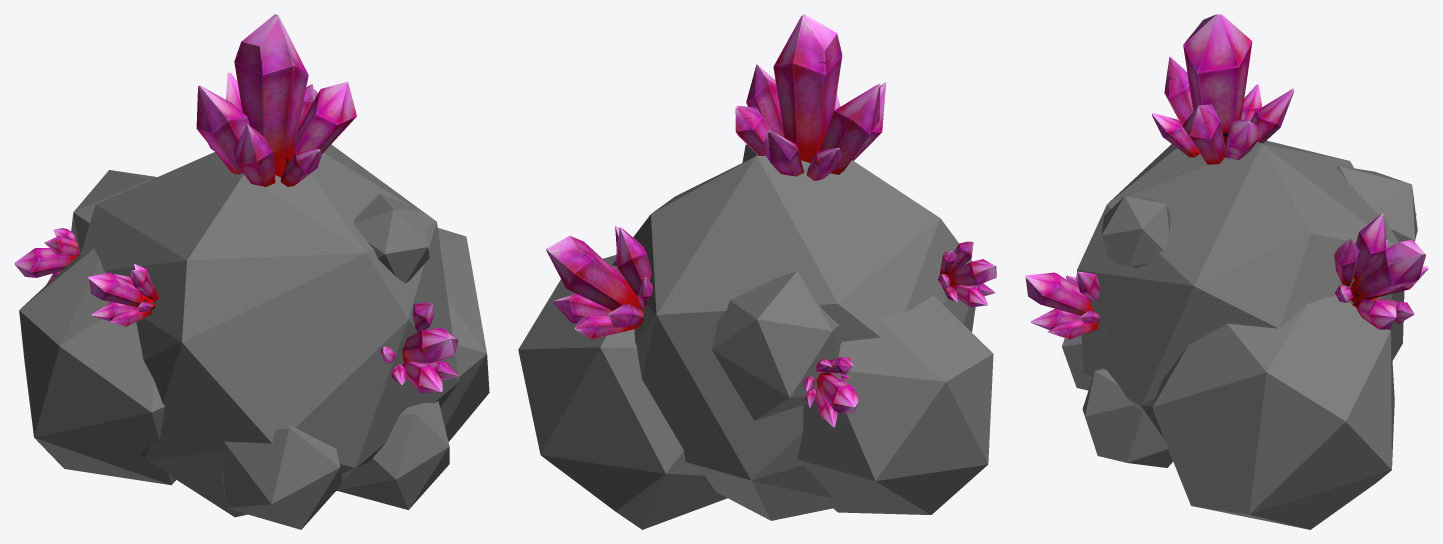
The model's file is MagicstoneOrePileBlender.fbx.
The picture shows the model from 3 angles, left to right: view 1: azimuth 30°, elevation 25°; view 2: azimuth 150°, elevation 25°; view 3: azimuth 270°, elevation 25°; orthographic projection. The views are drawn at different scales.
Parts seen in each view (by area): view 1: StoneOre.002, BlueCrystal.023, BlueCrystal.026, BlueCrystal.027, BlueCrystal.028; view 2: StoneOre.002, BlueCrystal.023, BlueCrystal.024, BlueCrystal.027, BlueCrystal.028; view 3: StoneOre.002, BlueCrystal.023, BlueCrystal.024, BlueCrystal.026.
Part boxes in pixels (left/top/right/bottom): StoneOre.002: left=19, top=144, right=489, bottom=529; BlueCrystal.023: left=196, top=14, right=356, bottom=186; BlueCrystal.026: left=380, top=302, right=458, bottom=392; BlueCrystal.027: left=87, top=264, right=158, bottom=326; BlueCrystal.028: left=14, top=228, right=79, bottom=284; StoneOre.002: left=518, top=144, right=993, bottom=529; BlueCrystal.023: left=735, top=14, right=886, bottom=180; BlueCrystal.024: left=546, top=225, right=652, bottom=339; BlueCrystal.027: left=938, top=241, right=996, bottom=307; BlueCrystal.028: left=803, top=357, right=859, bottom=427; StoneOre.002: left=1062, top=140, right=1417, bottom=529; BlueCrystal.023: left=1152, top=14, right=1294, bottom=164; BlueCrystal.024: left=1334, top=213, right=1428, bottom=329; BlueCrystal.026: left=1025, top=271, right=1100, bottom=339.
Bounding box in the file's own units: 2.74 × 3.05 × 2.39.
